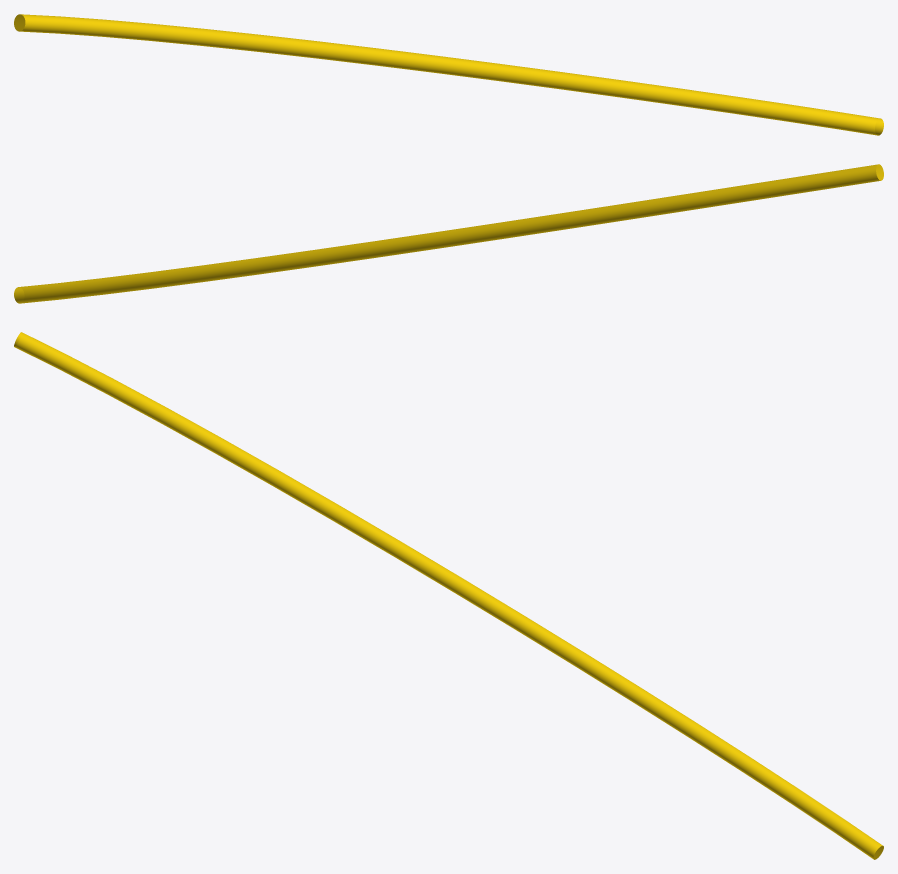
File: Event_421115418_track_211.fbx
3 views of the same model, one above another, from view 1: azimuth 30°, elevation 25°; view 2: azimuth 150°, elevation 25°; view 3: azimuth 330°, elevation 25° (orthographic). The views are drawn at different scales.
Visible parts, largest first — view 1: Model; view 2: Model; view 3: Model.
Part boxes in pixels (x1,y1,x2,y2): Model: [14, 14, 883, 135]; Model: [14, 164, 883, 303]; Model: [14, 332, 883, 859].
Bounding box in the file's own units: 2.35 × 0.8767 × 0.1376.
